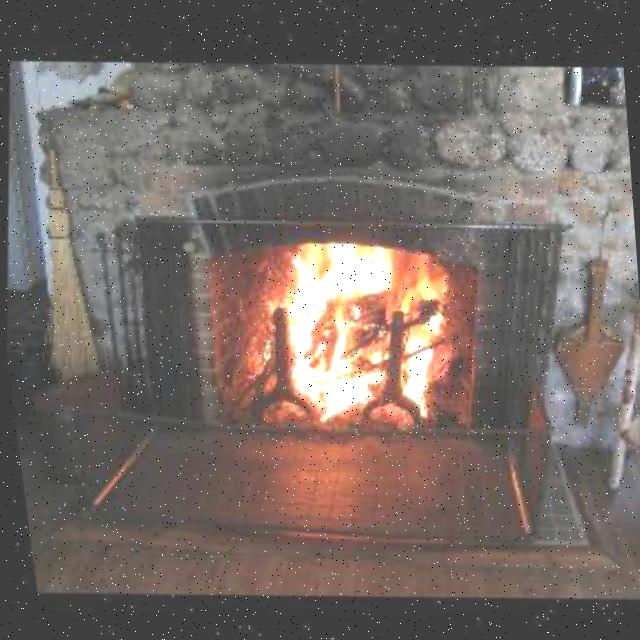fire: (226, 213, 473, 443)
